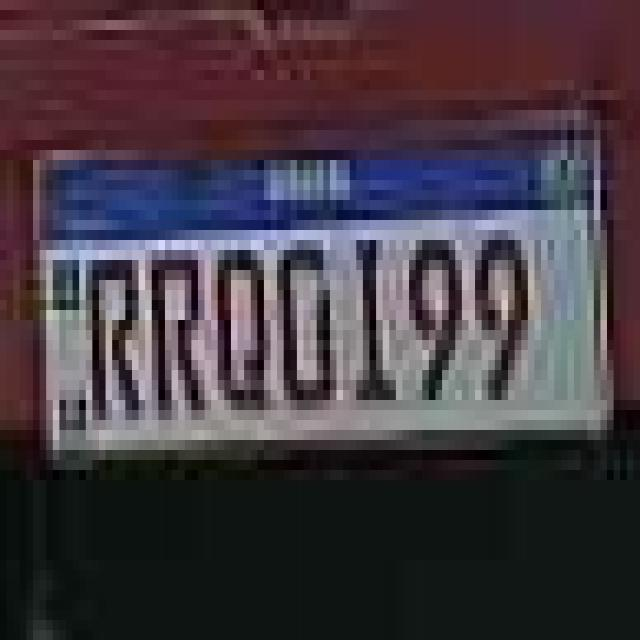0: (275, 234, 340, 414)
9: (472, 222, 533, 406), (407, 231, 466, 405)
I: (347, 229, 402, 408)
Q: (212, 237, 274, 421)
R: (147, 242, 206, 422), (86, 250, 145, 420)
